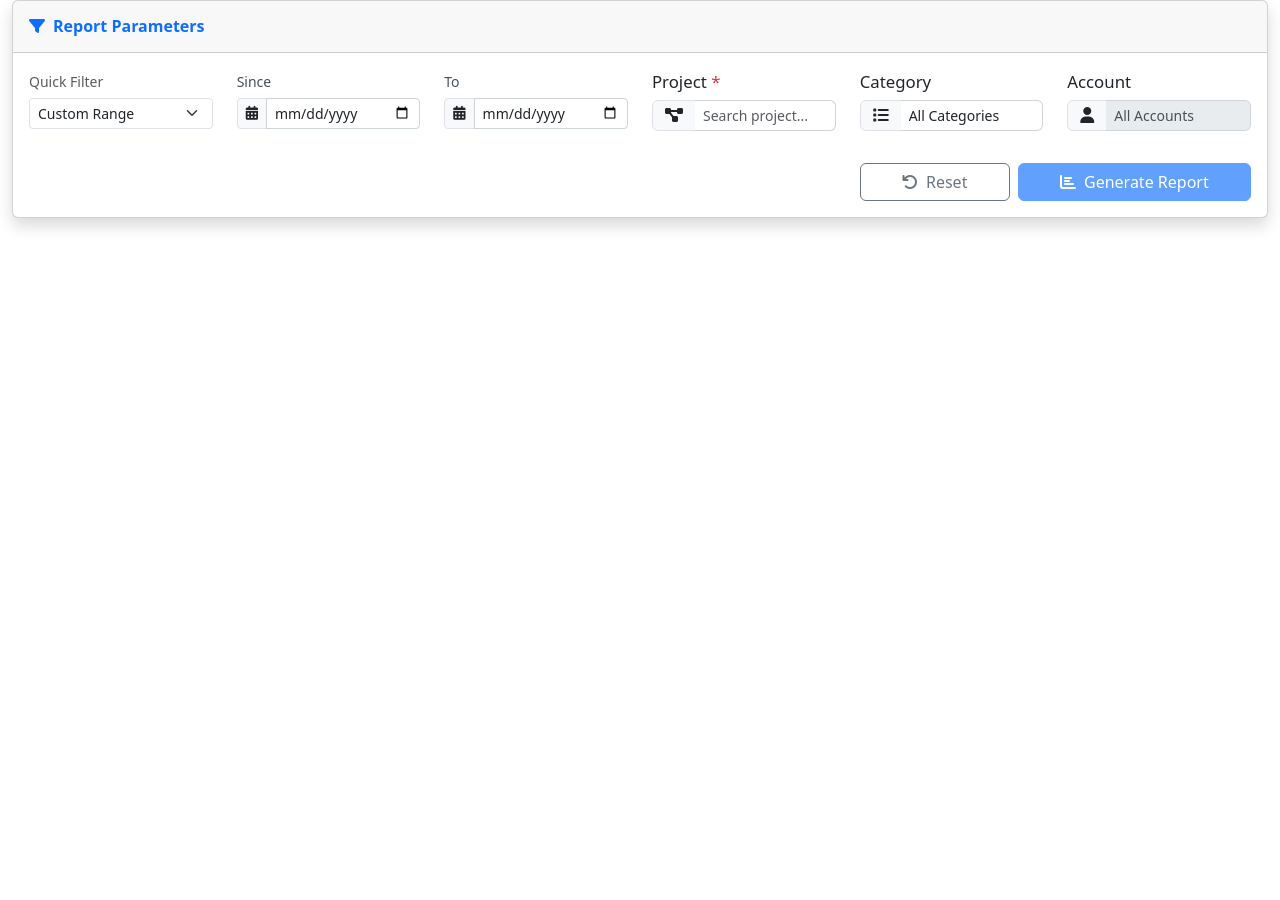
Test: PaymentReceiptVoucherReport › resets filters, output search, and generated results together
Step 1. Type "Project One" into the field named "Project filter" → (765, 116), box [695,100,836,131]
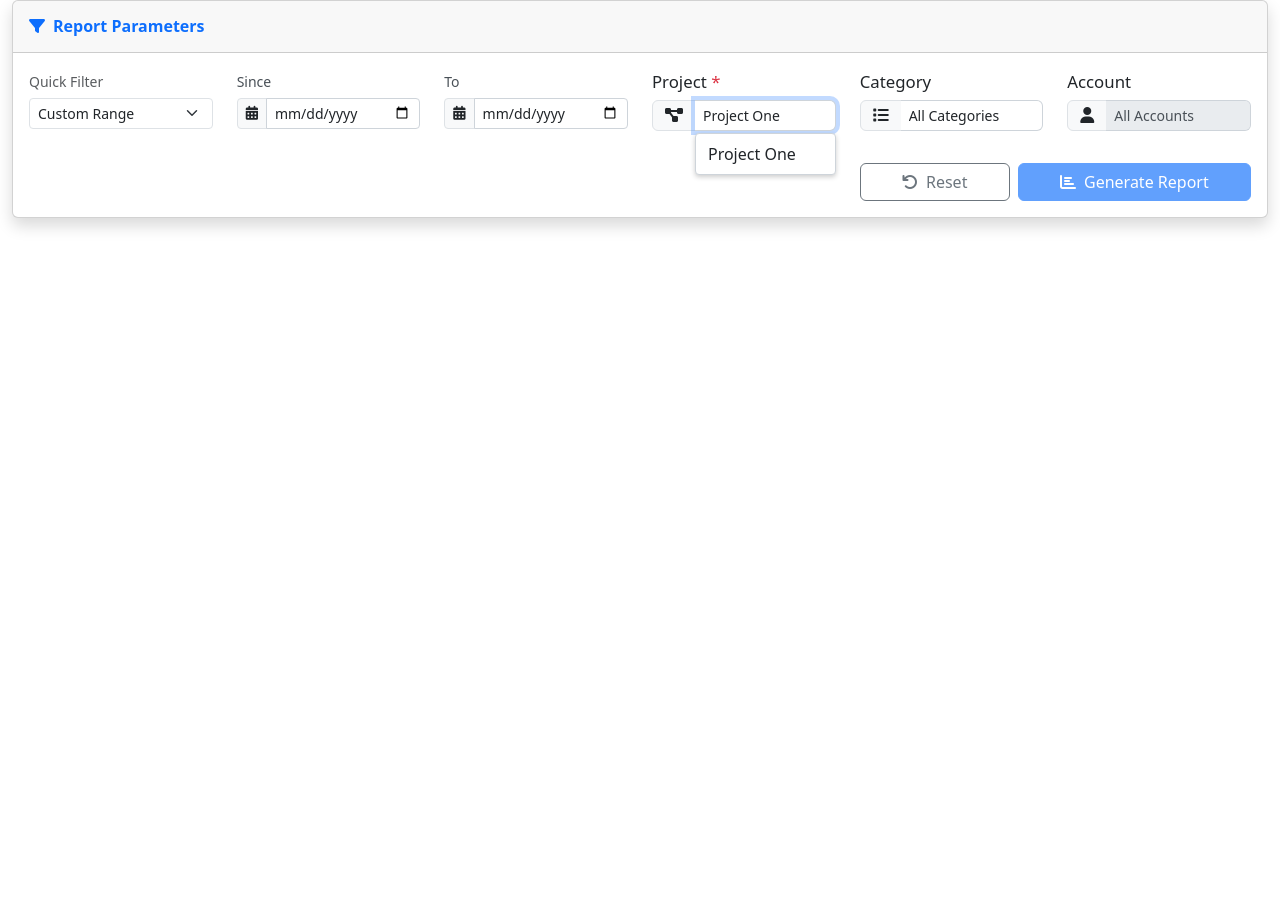
Step 2. Click the text "Project One" → (752, 154), box [708,143,796,165]
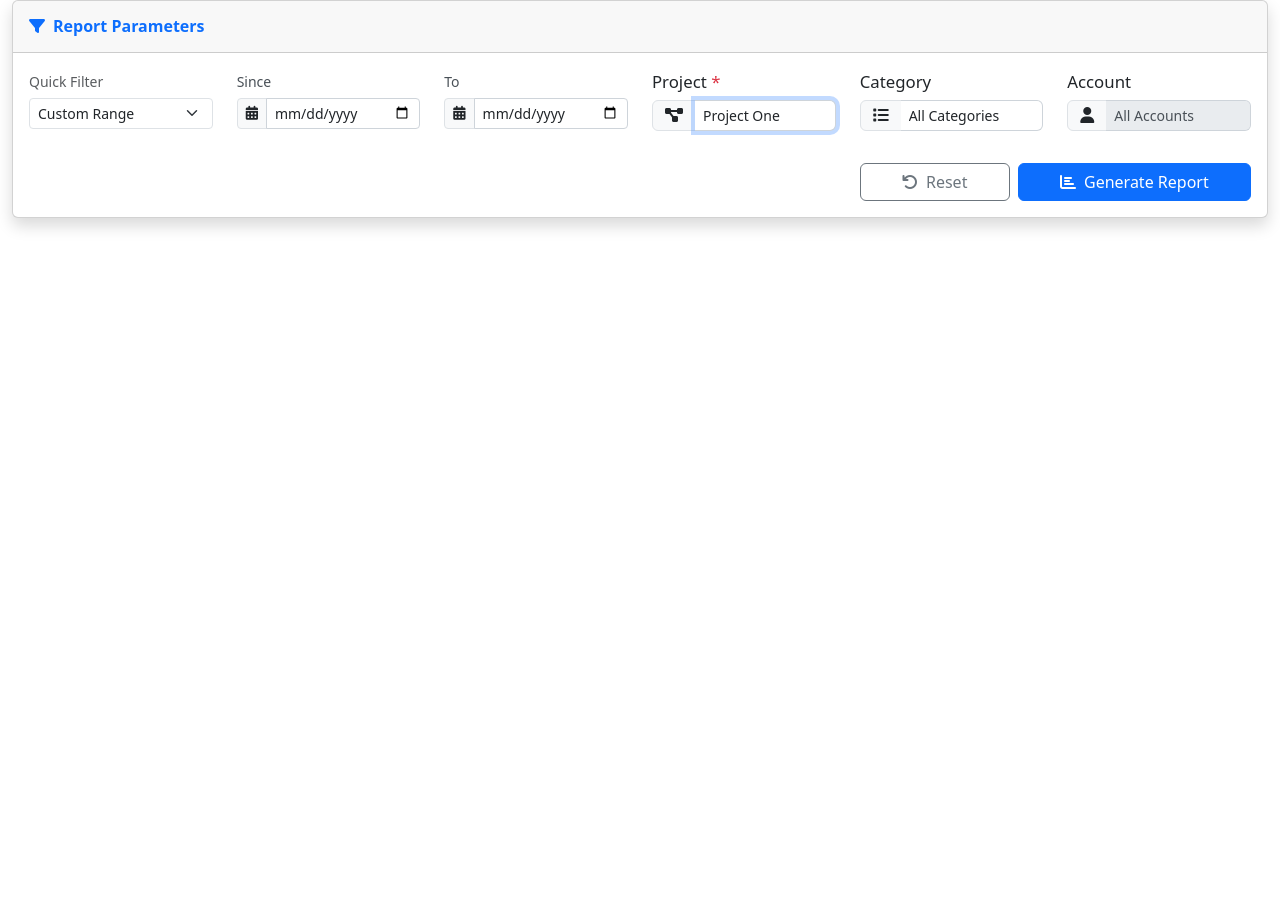
Step 3. Click the button "Generate Report" → (1134, 182), box [1018,163,1251,201]
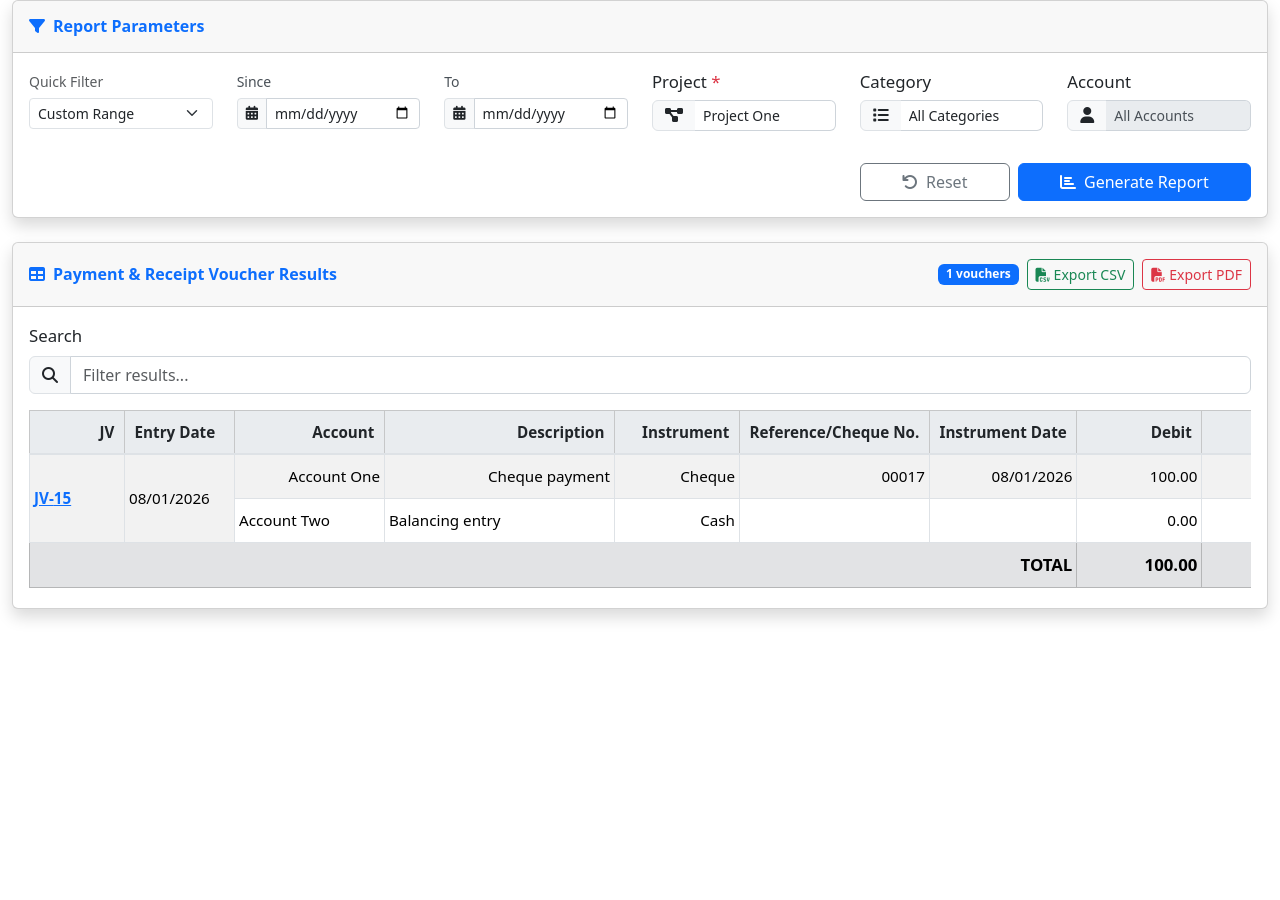
Expected: the link "JV-15" is shown, [34,487,71,510]
Step 4. Type "cash" into the field named "Search results" → (660, 375), box [70,356,1251,394]
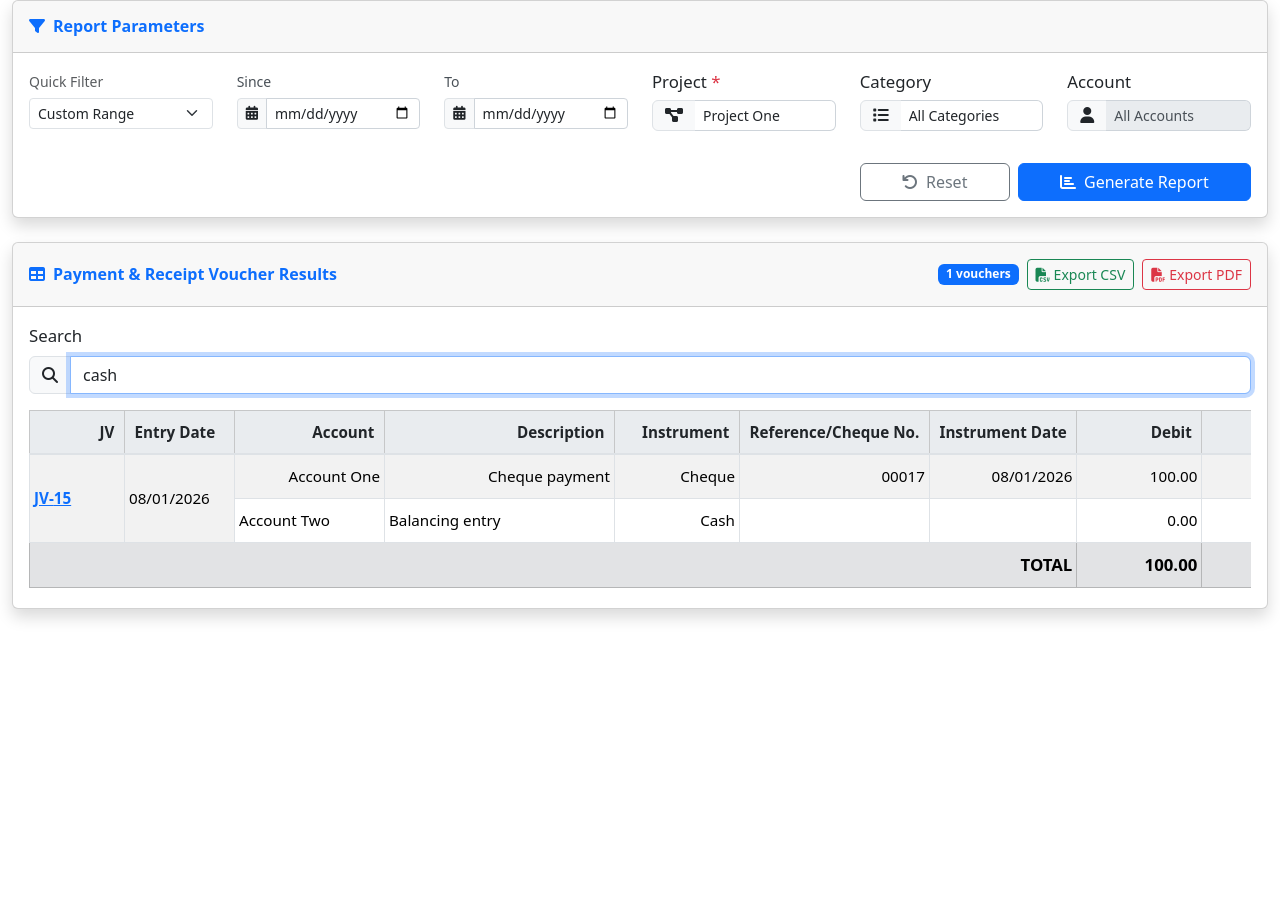
Step 5. Click the button "Reset" → (935, 182), box [860,163,1010,201]
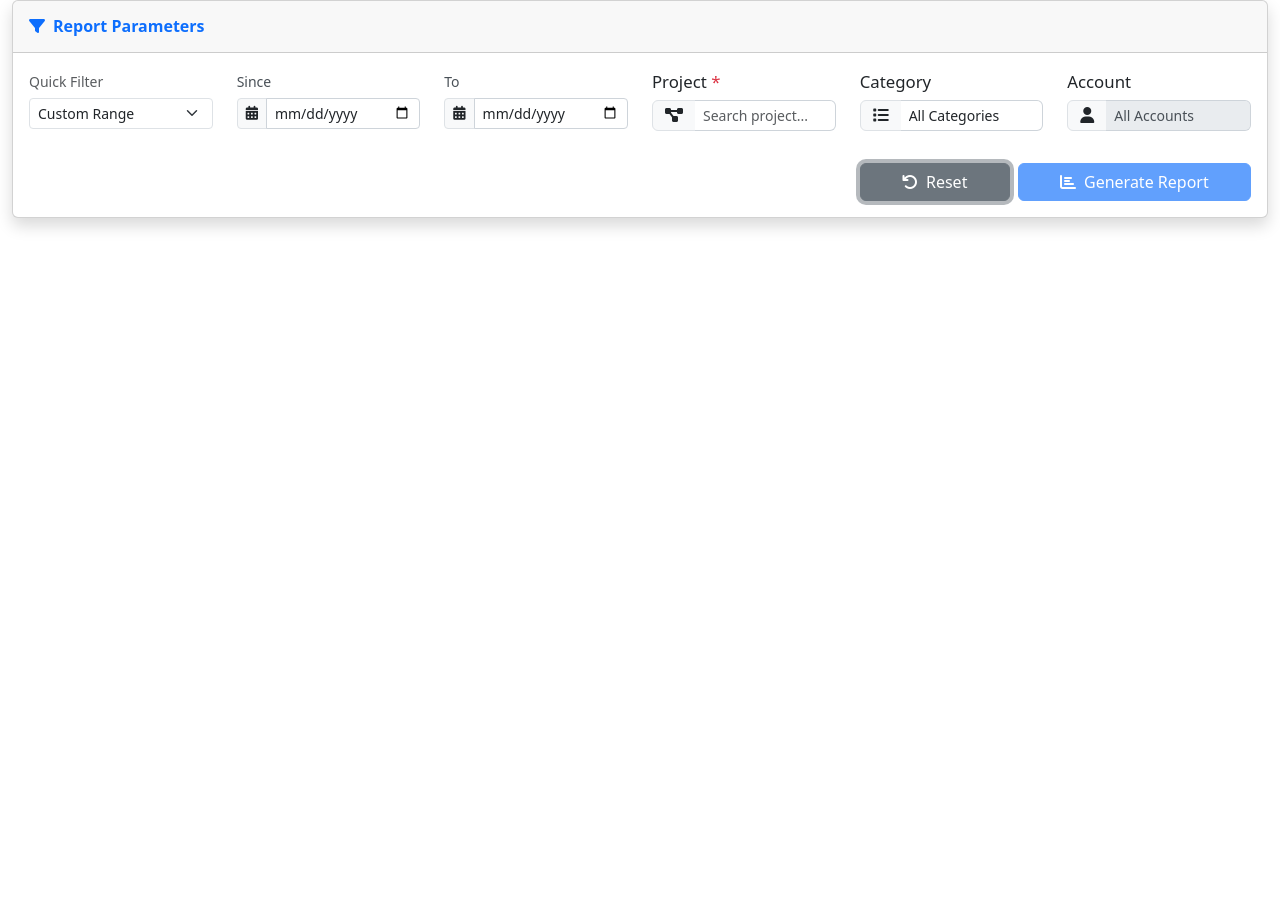
Expected: the link "JV-15" is gone
